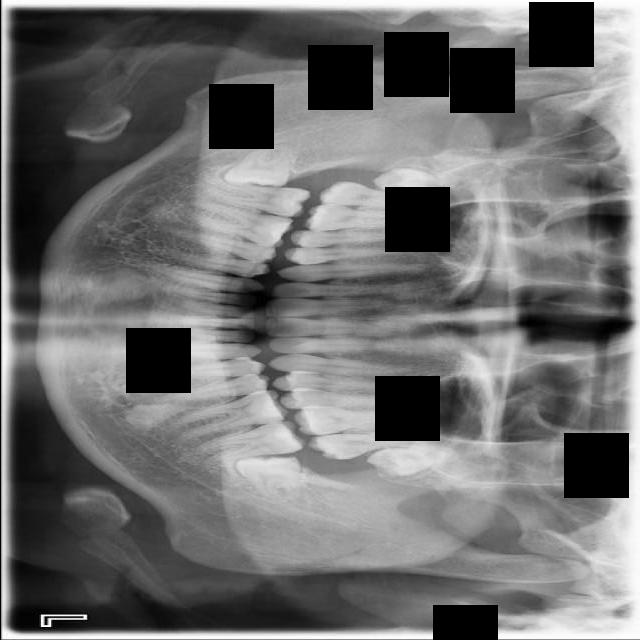3M ESPE Implant: (371, 168, 459, 194)
52: (236, 382, 291, 436), (253, 410, 307, 465), (242, 210, 294, 249), (291, 403, 343, 438), (302, 204, 353, 232)
73: (61, 610, 80, 618)
BioHorizons Implant: (307, 431, 432, 461)
BioLife Implant: (365, 443, 458, 479)
Biomet 3i Implant: (234, 455, 303, 505)
Blue Sky Bio Implant: (193, 418, 306, 466)
Caries: (318, 180, 430, 208)
Implant: (200, 176, 312, 220)
Keystone Dental Implant: (223, 138, 295, 191)
